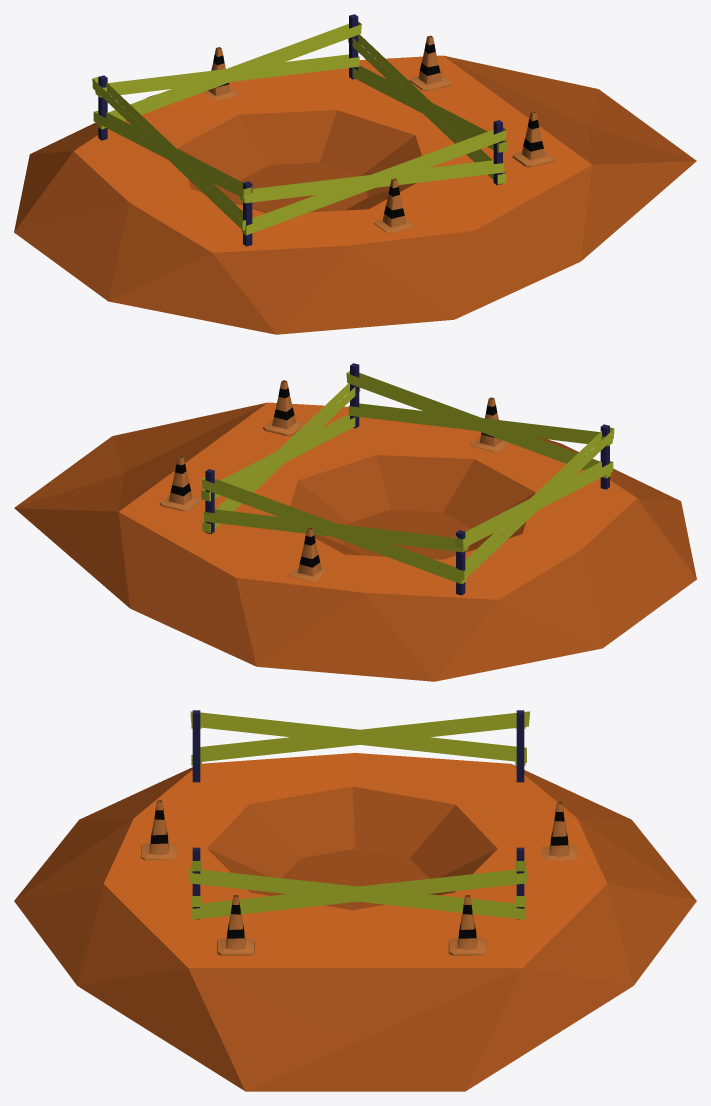
The model's file is UnderConstruction.fbx.
3 views of the same model, one above another, from view 1: azimuth 30°, elevation 25°; view 2: azimuth 150°, elevation 25°; view 3: azimuth 270°, elevation 25° (orthographic). The views are drawn at different scales.
Visible parts, largest first — view 1: Floor, Tapes, Cones, Poles; view 2: Floor, Tapes, Cones, Poles; view 3: Floor, Tapes, Cones, Poles.
Boxes of the visible parts, x1=… form: Floor: x1=14, y1=55, x2=696, y2=334; Tapes: x1=92, y1=22, x2=507, y2=235; Cones: x1=202, y1=35, x2=554, y2=232; Poles: x1=98, y1=14, x2=502, y2=246; Floor: x1=14, y1=402, x2=696, y2=681; Tapes: x1=201, y1=371, x2=614, y2=584; Cones: x1=159, y1=380, x2=510, y2=581; Poles: x1=205, y1=363, x2=609, y2=595; Floor: x1=14, y1=753, x2=696, y2=1091; Tapes: x1=188, y1=711, x2=529, y2=919; Cones: x1=140, y1=800, x2=577, y2=955; Poles: x1=192, y1=710, x2=524, y2=919.
Size of the model in its own units: 2000 by 354 by 1800.
